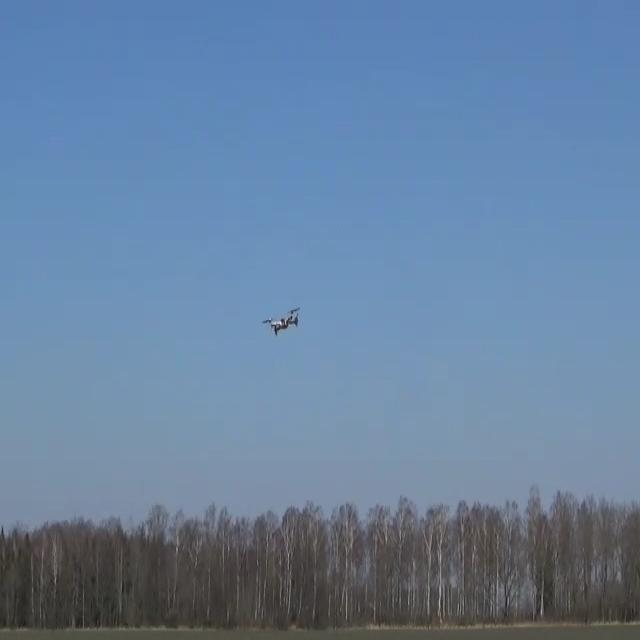drone: (261, 306, 300, 336)
